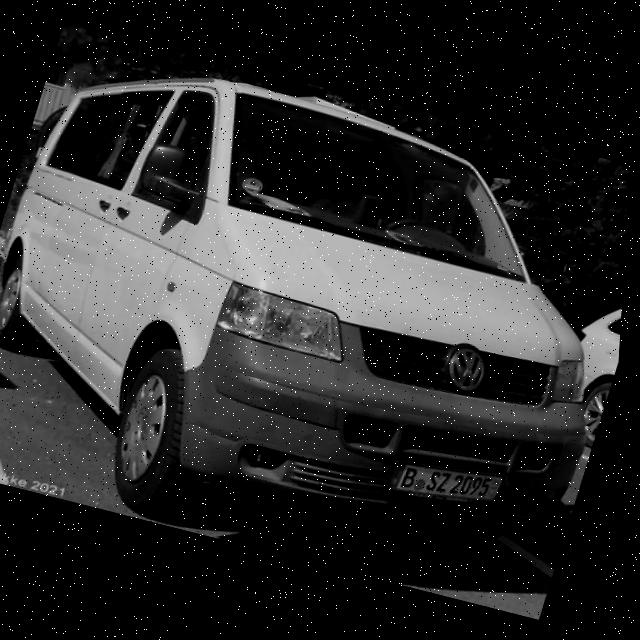license-plates: (385, 462, 503, 502)
